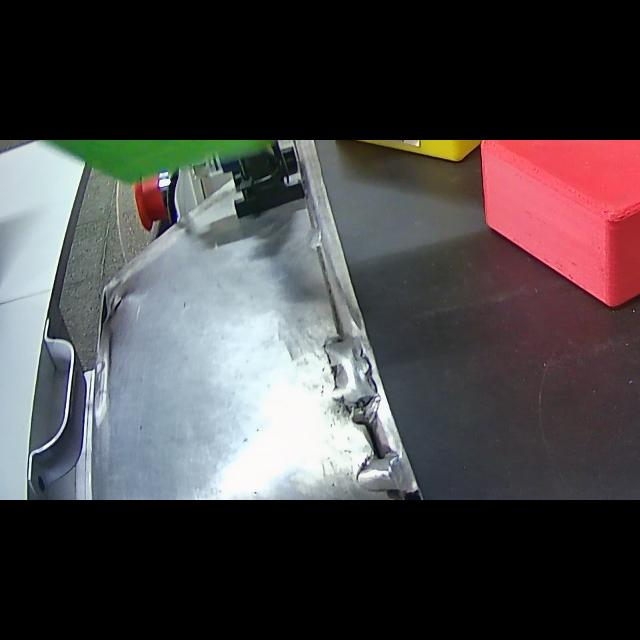greenBox: (26, 140, 342, 194)
redBox: (476, 140, 640, 312)
yellowBox: (320, 140, 522, 172)
